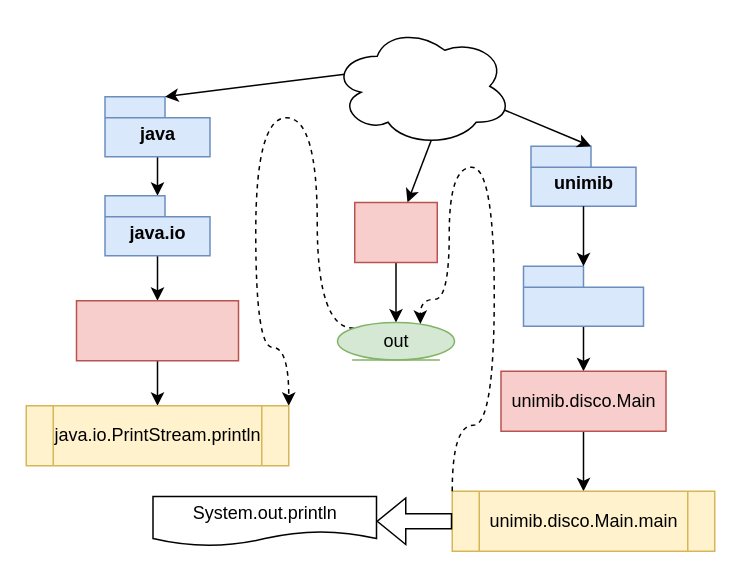
The diagram is 741 pixels wide and 578 high, and some of its shapes have lost their labels. Each missing label, with the box of its shape:
java.io.PrintStream: (75, 299, 238, 361)
ROOT: (331, 25, 512, 146)
System: (353, 201, 437, 262)
unimib.disco: (522, 265, 644, 326)
